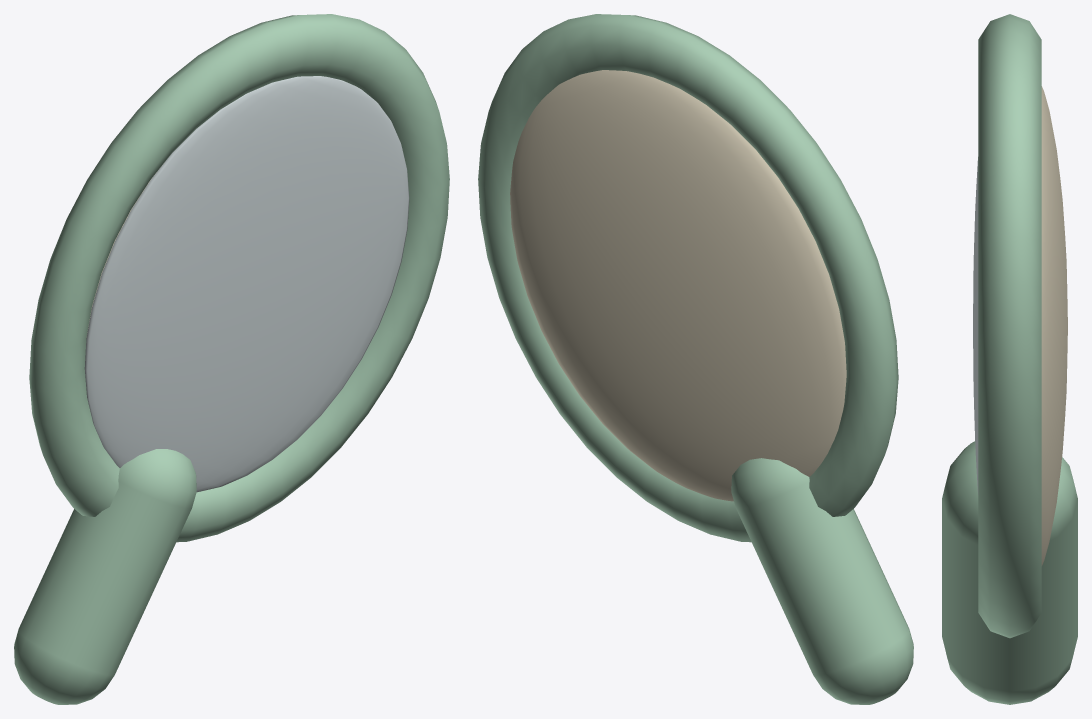
Rendered from mirror.glb.
3 renders of one model, left to right at view 1: azimuth 30°, elevation 25°; view 2: azimuth 150°, elevation 25°; view 3: azimuth 270°, elevation 25°, orthographic. The views are drawn at different scales.
Visible parts, largest first — view 1: Mirror_silver_surface, Mirror_oval_frame, Mirror_handle; view 2: Mirror_back, Mirror_oval_frame, Mirror_handle; view 3: Mirror_oval_frame, Mirror_handle, Mirror_back, Mirror_silver_surface.
Boxes of the visible parts, x1,y1,x2,y2 form: Mirror_silver_surface: [84, 76, 409, 492]; Mirror_oval_frame: [29, 14, 449, 542]; Mirror_handle: [14, 449, 196, 704]; Mirror_back: [510, 70, 846, 501]; Mirror_oval_frame: [478, 14, 898, 542]; Mirror_handle: [731, 458, 913, 704]; Mirror_oval_frame: [978, 14, 1041, 638]; Mirror_handle: [942, 441, 1077, 704]; Mirror_back: [1041, 86, 1067, 565]; Mirror_silver_surface: [973, 157, 978, 495].
Bounding box in the file's own units: 0.5026 × 0.7077 × 0.11.
